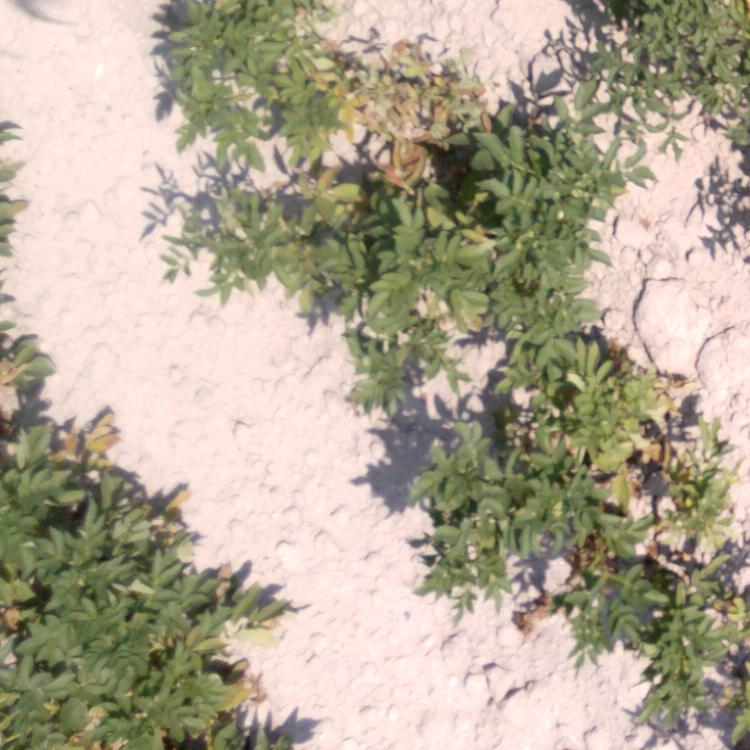healthy: (1, 543, 272, 741), (163, 155, 353, 305), (1, 416, 191, 540), (495, 108, 618, 290), (395, 445, 561, 570), (167, 1, 308, 139), (552, 5, 750, 103), (1, 128, 36, 408), (699, 106, 750, 224)
stressed: (358, 166, 486, 396), (580, 331, 719, 510), (314, 31, 494, 167), (646, 525, 750, 741), (502, 292, 571, 433), (569, 517, 632, 644)
